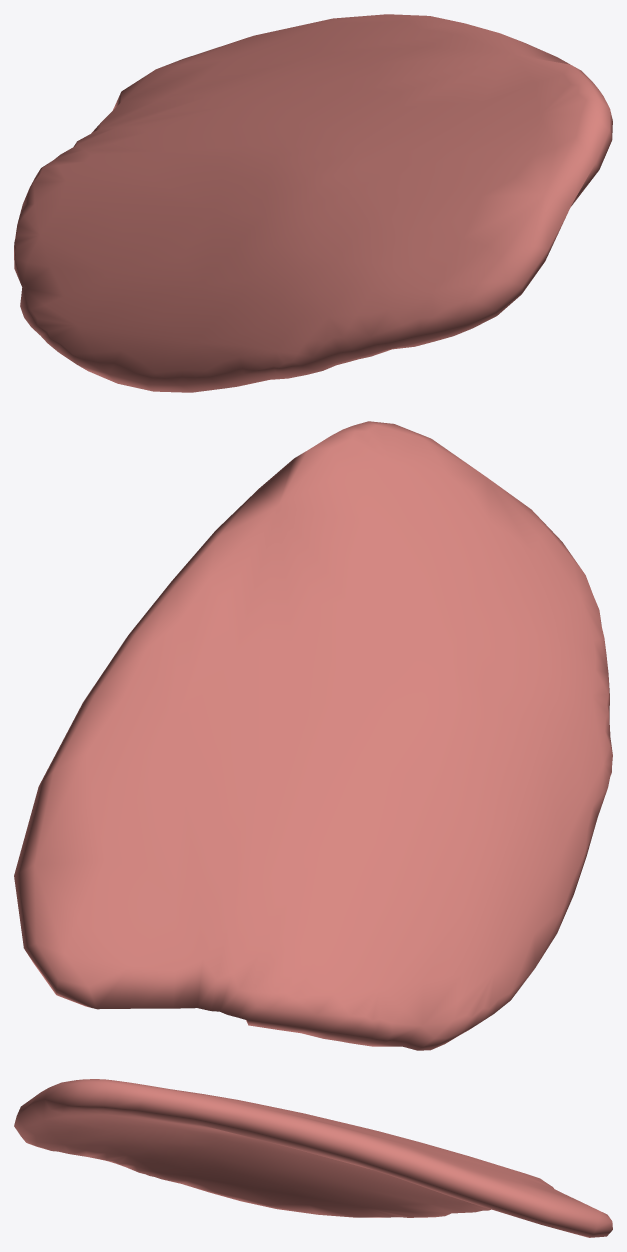
The picture shows the model from 3 angles, top to bottom: view 1: azimuth 30°, elevation 25°; view 2: azimuth 150°, elevation 25°; view 3: azimuth 270°, elevation 25°; orthographic projection. The views are drawn at different scales.
Visible parts, largest first — view 1: ZA_d82ac36ed4411005; view 2: ZA_d82ac36ed4411005; view 3: ZA_d82ac36ed4411005.
Boxes of the visible parts, x1,y1,x2,y2 form: ZA_d82ac36ed4411005: (14, 14, 612, 392); ZA_d82ac36ed4411005: (14, 421, 612, 1050); ZA_d82ac36ed4411005: (14, 1079, 612, 1237).
Bounding box in the file's own units: 0.00457 × 0.00405 × 0.00907.
